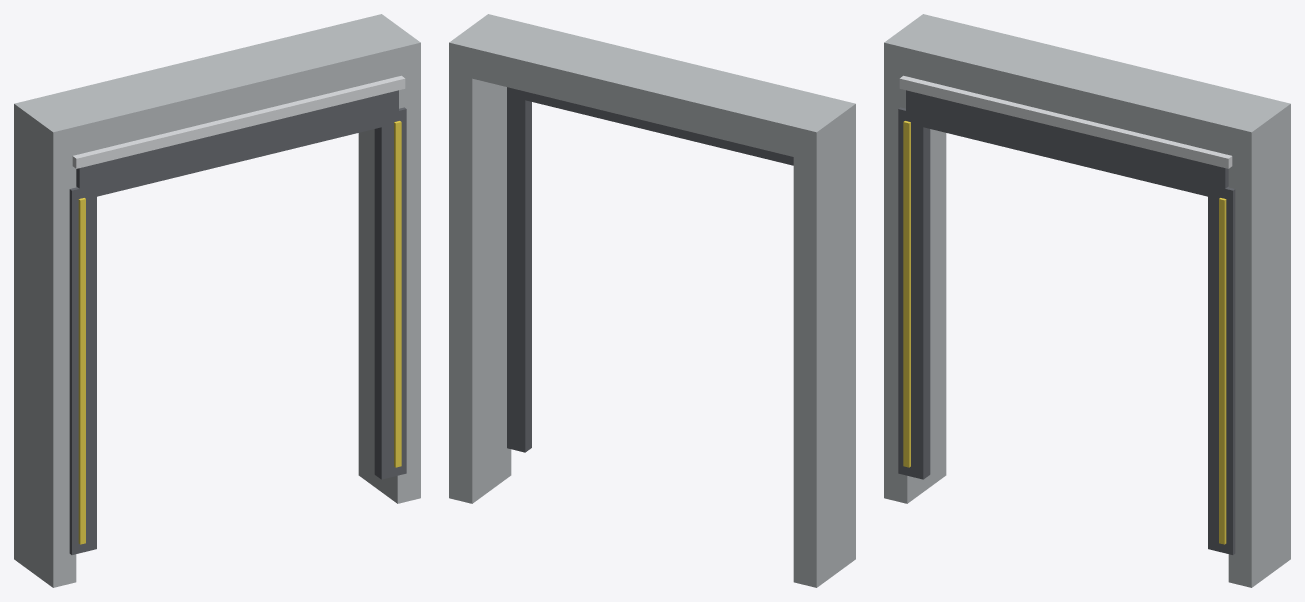
Rendered from dock-shelter-frame.glb.
3 renders of one model, left to right at view 1: azimuth 30°, elevation 25°; view 2: azimuth 150°, elevation 25°; view 3: azimuth 330°, elevation 25°, orthographic.
Parts seen in each view (by area): view 1: parcel-depot-and-sorting-hall-dock-shelter-frame; view 2: parcel-depot-and-sorting-hall-dock-shelter-frame; view 3: parcel-depot-and-sorting-hall-dock-shelter-frame.
Part boxes in pixels (x1=…): parcel-depot-and-sorting-hall-dock-shelter-frame: x1=14, y1=14, x2=420, y2=587; parcel-depot-and-sorting-hall-dock-shelter-frame: x1=449, y1=14, x2=855, y2=587; parcel-depot-and-sorting-hall-dock-shelter-frame: x1=884, y1=14, x2=1290, y2=587.
Size of the model in its own units: 3.8 by 4.5 by 0.7699.
